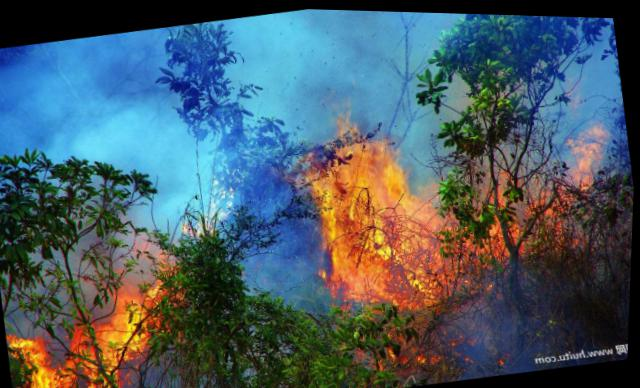fire: (304, 75, 637, 385), (0, 181, 262, 387)
